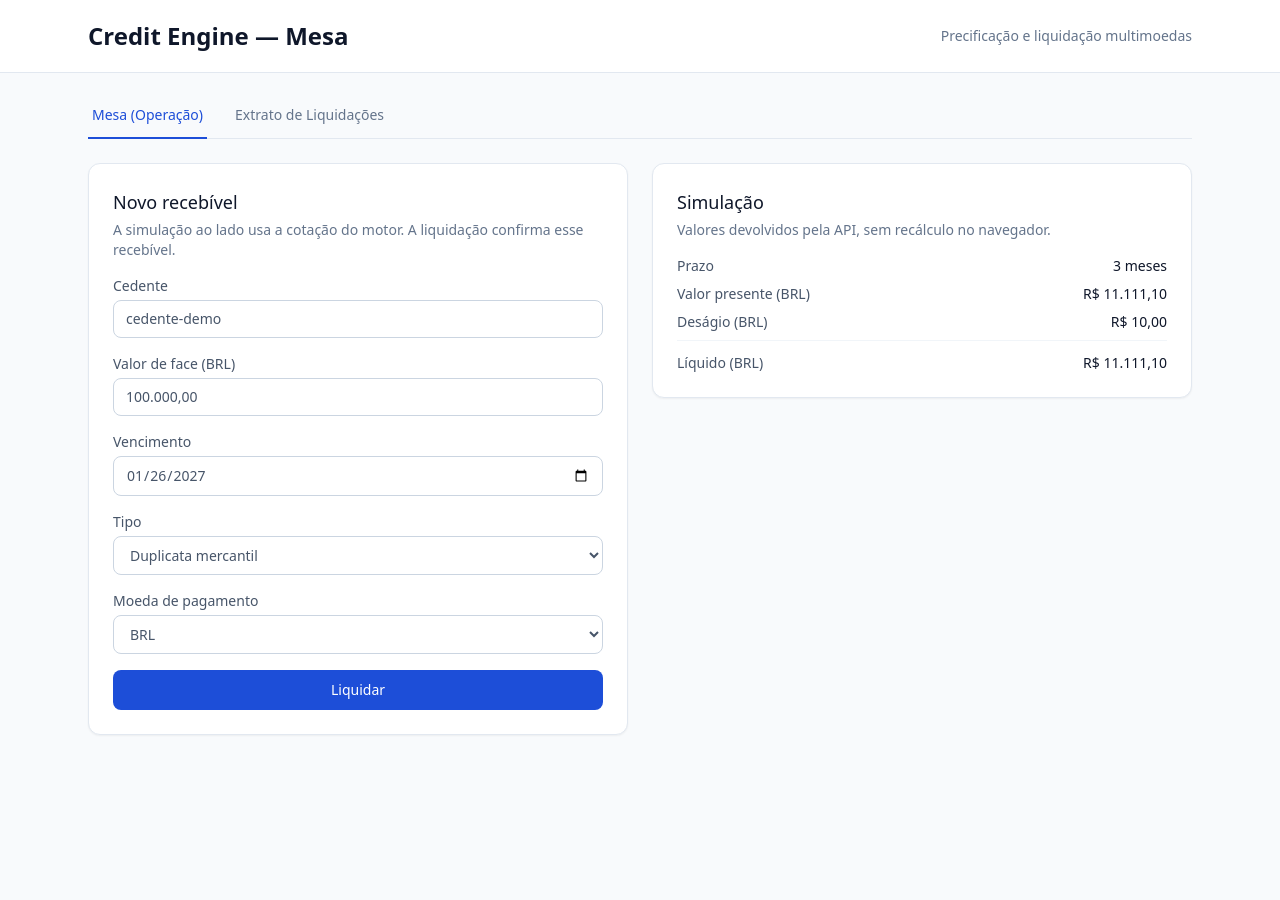
settles with an idempotency key and confirms the payment
Check: the field labelled "Valor de face (BRL)" is shown, box [113,378,603,416]
Check: the button "Liquidar" is enabled, box [113,670,603,710]
Step 1. Replace the text in the field labelled "Cedente" with "cedente-outro" → (358, 319), box [113,300,603,338]
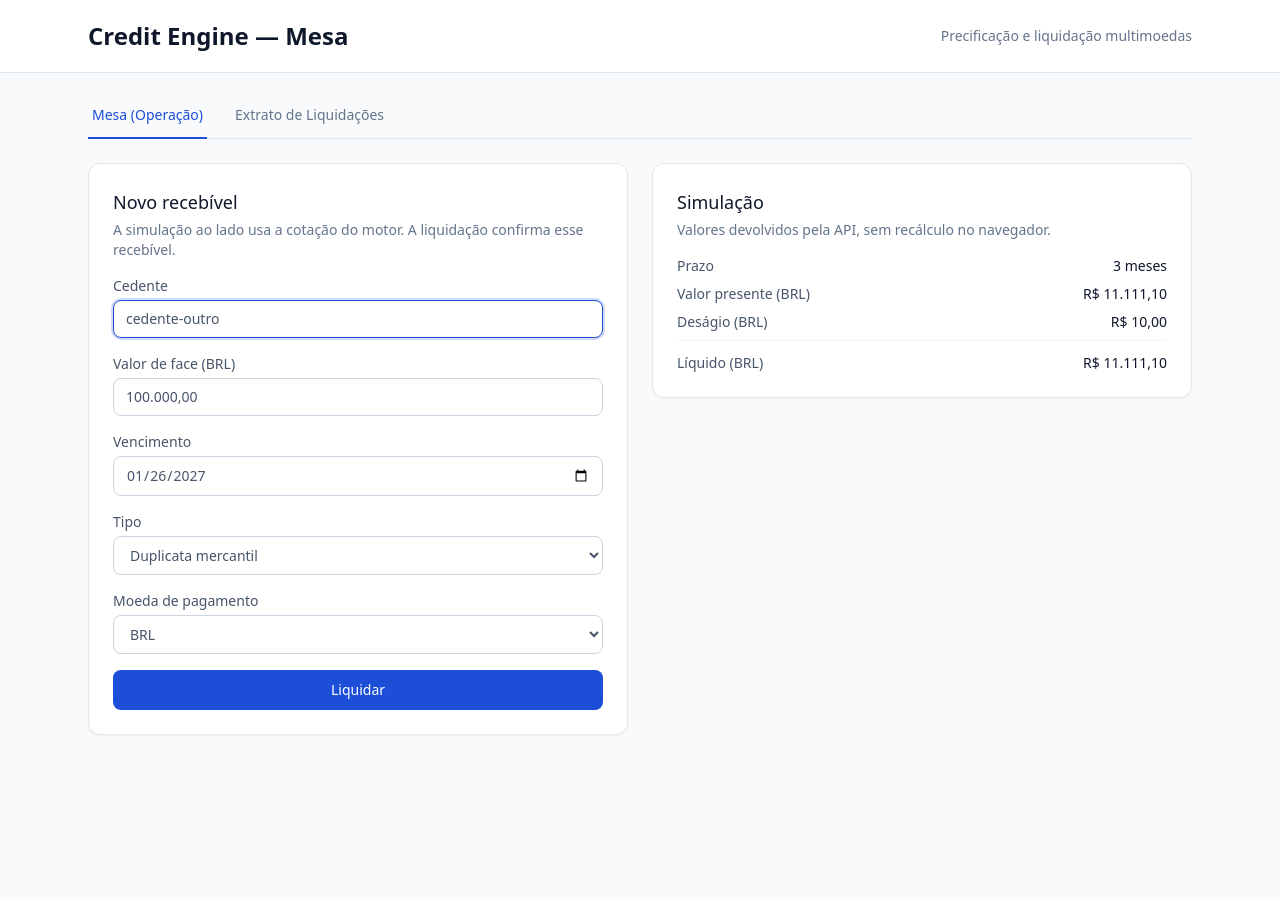
Step 2. Replace the text in the field labelled "Valor de face (BRL)" with "25000,00" → (358, 397), box [113,378,603,416]
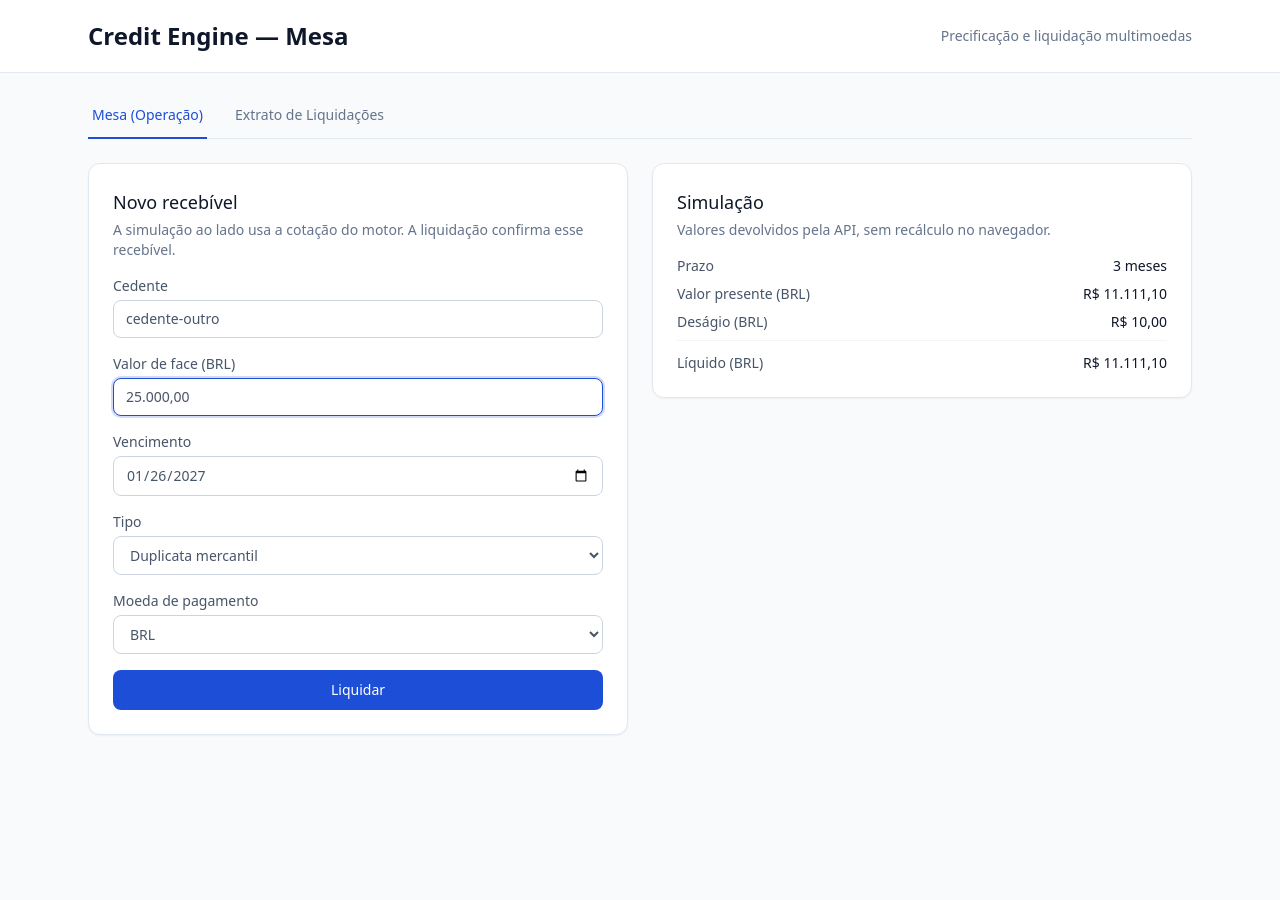
Step 3. Click the button "Liquidar" → click(358, 690), box [113,670,603,710]
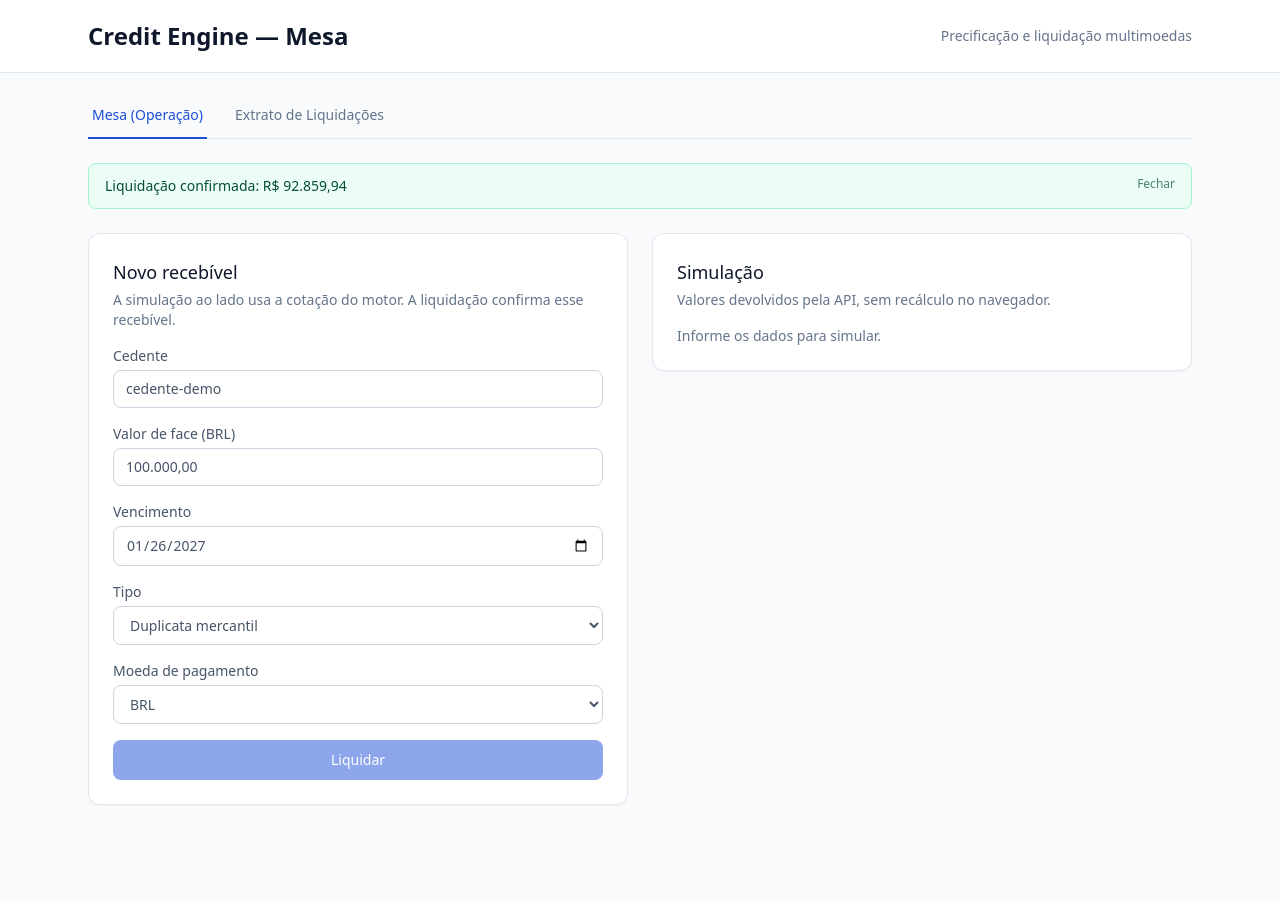
Check: the message shows "Liquidação confirmada: R$ 92.859,94", box [105,176,347,195]
Check: the field labelled "Cedente" holds "cedente-demo", box [113,370,603,408]
Check: the field labelled "Valor de face (BRL)" holds "100.000,00", box [113,448,603,486]
